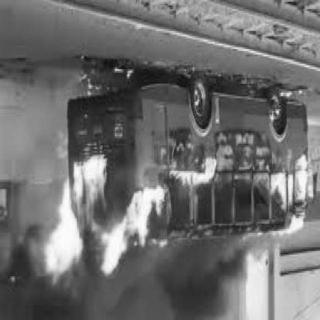Fire: (42, 146, 152, 276)
